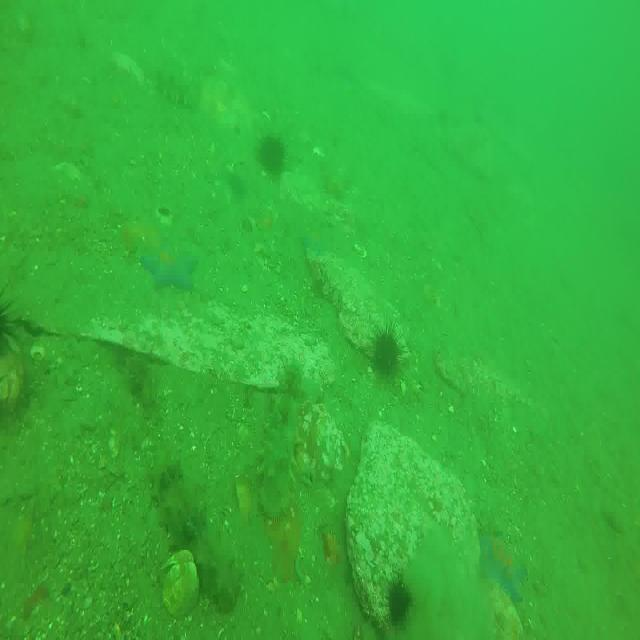echinus: (375, 326, 406, 384), (384, 572, 415, 624), (256, 129, 288, 174), (0, 282, 16, 364)
holothurian: (150, 464, 236, 612), (261, 360, 307, 524), (152, 62, 193, 112)
scallop: (157, 550, 200, 617)
starfish: (476, 522, 526, 604), (142, 241, 197, 296)
